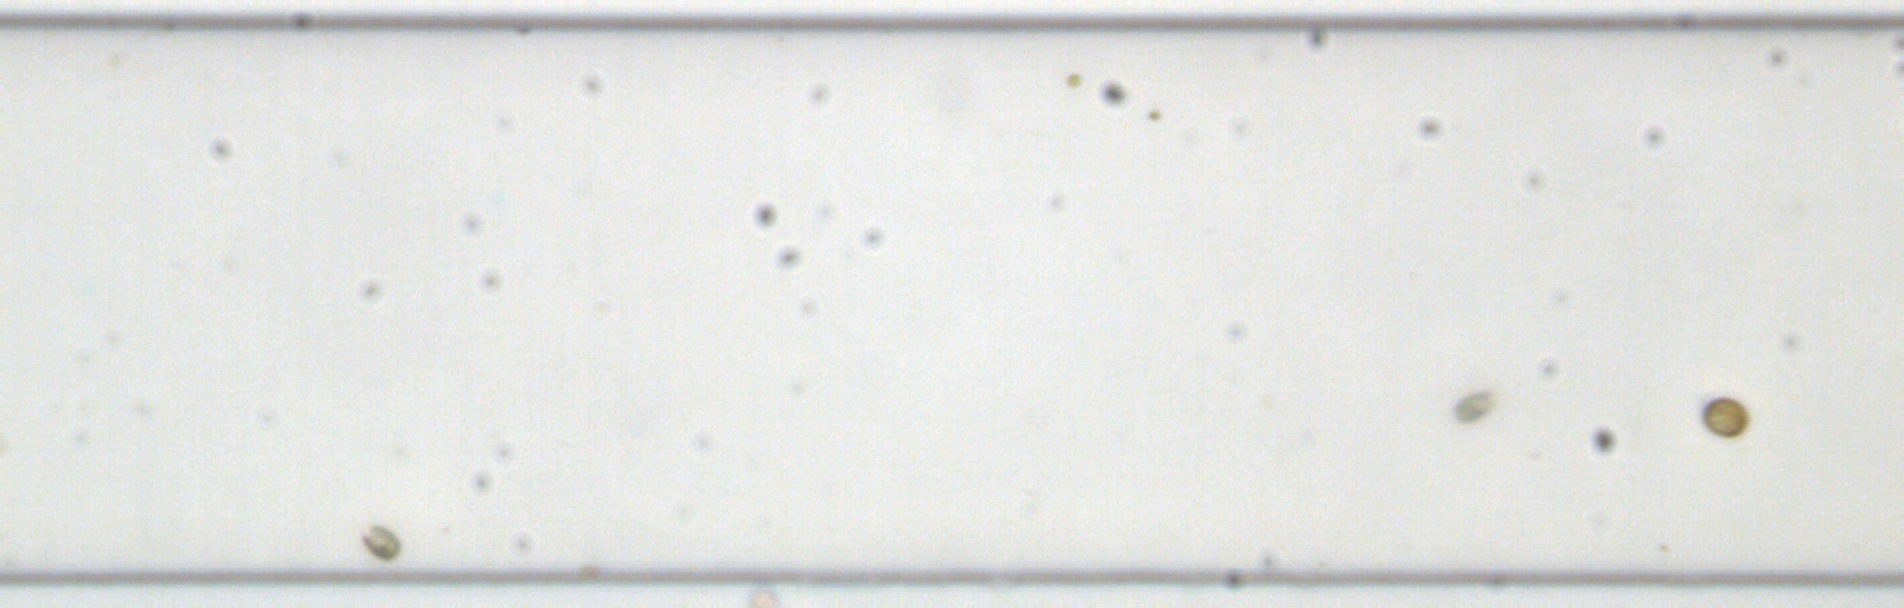Chlorella: (1064, 70, 1081, 86), (1146, 108, 1160, 123)
Dunaliella salina: (357, 522, 404, 564), (1450, 386, 1498, 426)
Effrenium: (1698, 394, 1750, 441)
